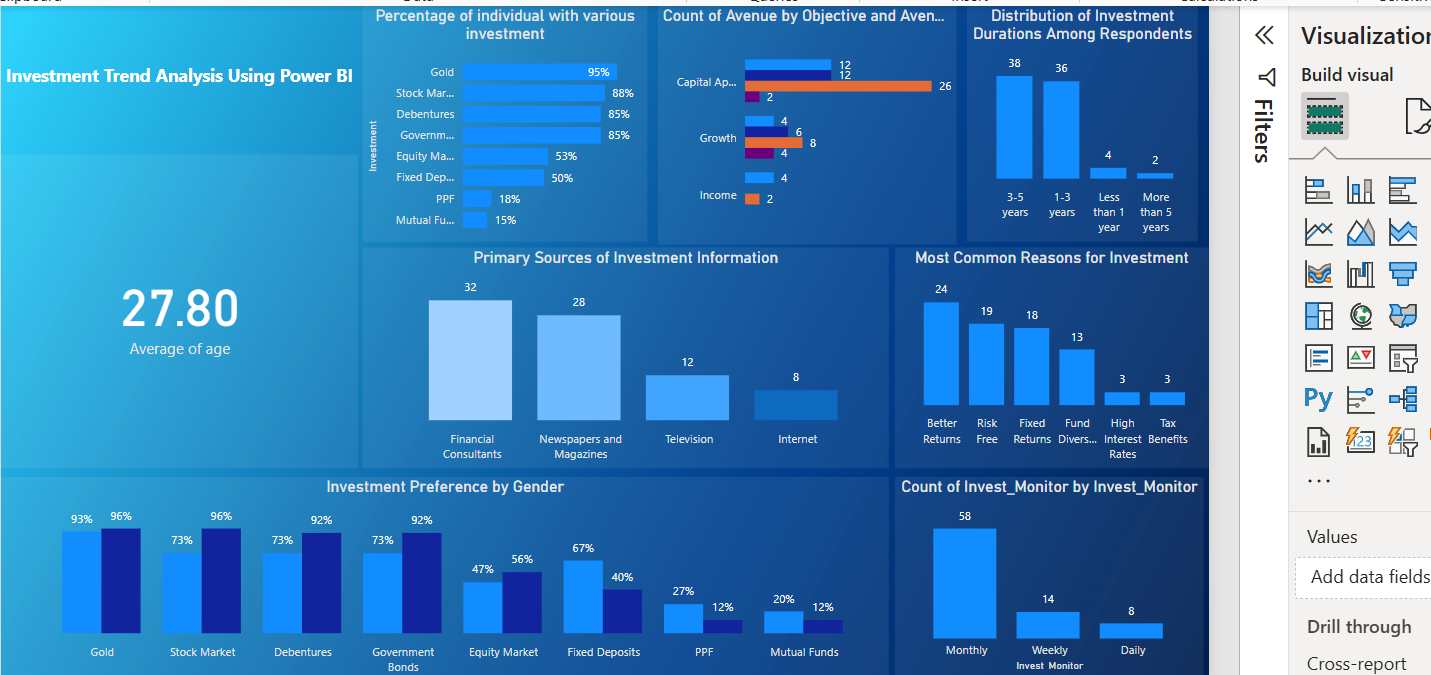

This screenshot's page, from the dashboard's own definition file:
{"tool":"powerbi","page":{"name":"Page 1","canvas":[1280,720],"ordinal":0},"visuals":[{"type":"clusteredBarChart","title":"Percentage of individual with various investment","fields":{"Category":["Investment_Types.Investment"],"Y":["Investment_Types.Percent_Invested"]},"box":[383.3,0,302.2,249.7],"z":0},{"type":"clusteredColumnChart","title":"Distribution of Investment Durations Among Respondents","fields":{"Category":["Data_set 2.Duration"],"Y":["CountNonNull(Data_set 2.Objective)"]},"box":[1024.4,0,245,249.7],"z":1000},{"type":"clusteredColumnChart","title":"Most Common Reasons for Investment","fields":{"Category":["Data_set 2.Reason_Text"],"Y":["CountNonNull(Data_set 2.Reason_Text)"]},"box":[948,256.1,332.4,233.8],"z":2000},{"type":"clusteredColumnChart","title":"Primary Sources of Investment Information","fields":{"Category":["Data_set 2.Source"],"Y":["CountNonNull(Data_set 2.Source)"]},"box":[383.3,256.1,558.3,233.8],"z":3000},{"type":"card","fields":{"Values":["Avg(Data_set 2.age)"]},"box":[0,157.5,378.6,332.4],"z":4000},{"type":"textbox","box":[0,55.7,378.6,62],"z":5000},{"type":"clusteredColumnChart","title":"Investment Preference by Gender","fields":{"Category":["Investment_Types.Investment"],"Y":["Investment_Types.Percent_Invested"],"Series":["Data_set 2.gender"]},"box":[0,499.5,941.6,216.3],"z":6000},{"type":"clusteredBarChart","fields":{"Y":["CountNonNull(Data_set 2.Avenue)"],"Category":["Data_set 2.Objective"],"Series":["Data_set 2.Avenue"]},"box":[696.7,0,316.5,252.9],"z":7000},{"type":"clusteredColumnChart","fields":{"Category":["Data_set 2.Invest_Monitor"],"Y":["CountNonNull(Data_set 2.Invest_Monitor)"]},"box":[948,499.5,327.7,210],"z":8000}]}

Visuals, with their boxes on the page's 1280x720 design canvas (x1, y1, x2, y2). These are canvas units, not pixel positions in the 1431x675 screenshot, which may show the page scaled, cropped or inside an application window:
"Percentage of individual with various investment" clusteredBarChart: [383, 0, 686, 250]
"Distribution of Investment Durations Among Respondents" clusteredColumnChart: [1024, 0, 1269, 250]
"Most Common Reasons for Investment" clusteredColumnChart: [948, 256, 1280, 490]
"Primary Sources of Investment Information" clusteredColumnChart: [383, 256, 942, 490]
card - Avg(Data_set 2.age): [0, 158, 379, 490]
textbox: [0, 56, 379, 118]
"Investment Preference by Gender" clusteredColumnChart: [0, 500, 942, 716]
clusteredBarChart - CountNonNull(Data_set 2.Avenue) x Data_set 2.Objective: [697, 0, 1013, 253]
clusteredColumnChart - Data_set 2.Invest_Monitor x CountNonNull(Data_set 2.Invest_Monitor): [948, 500, 1276, 710]
